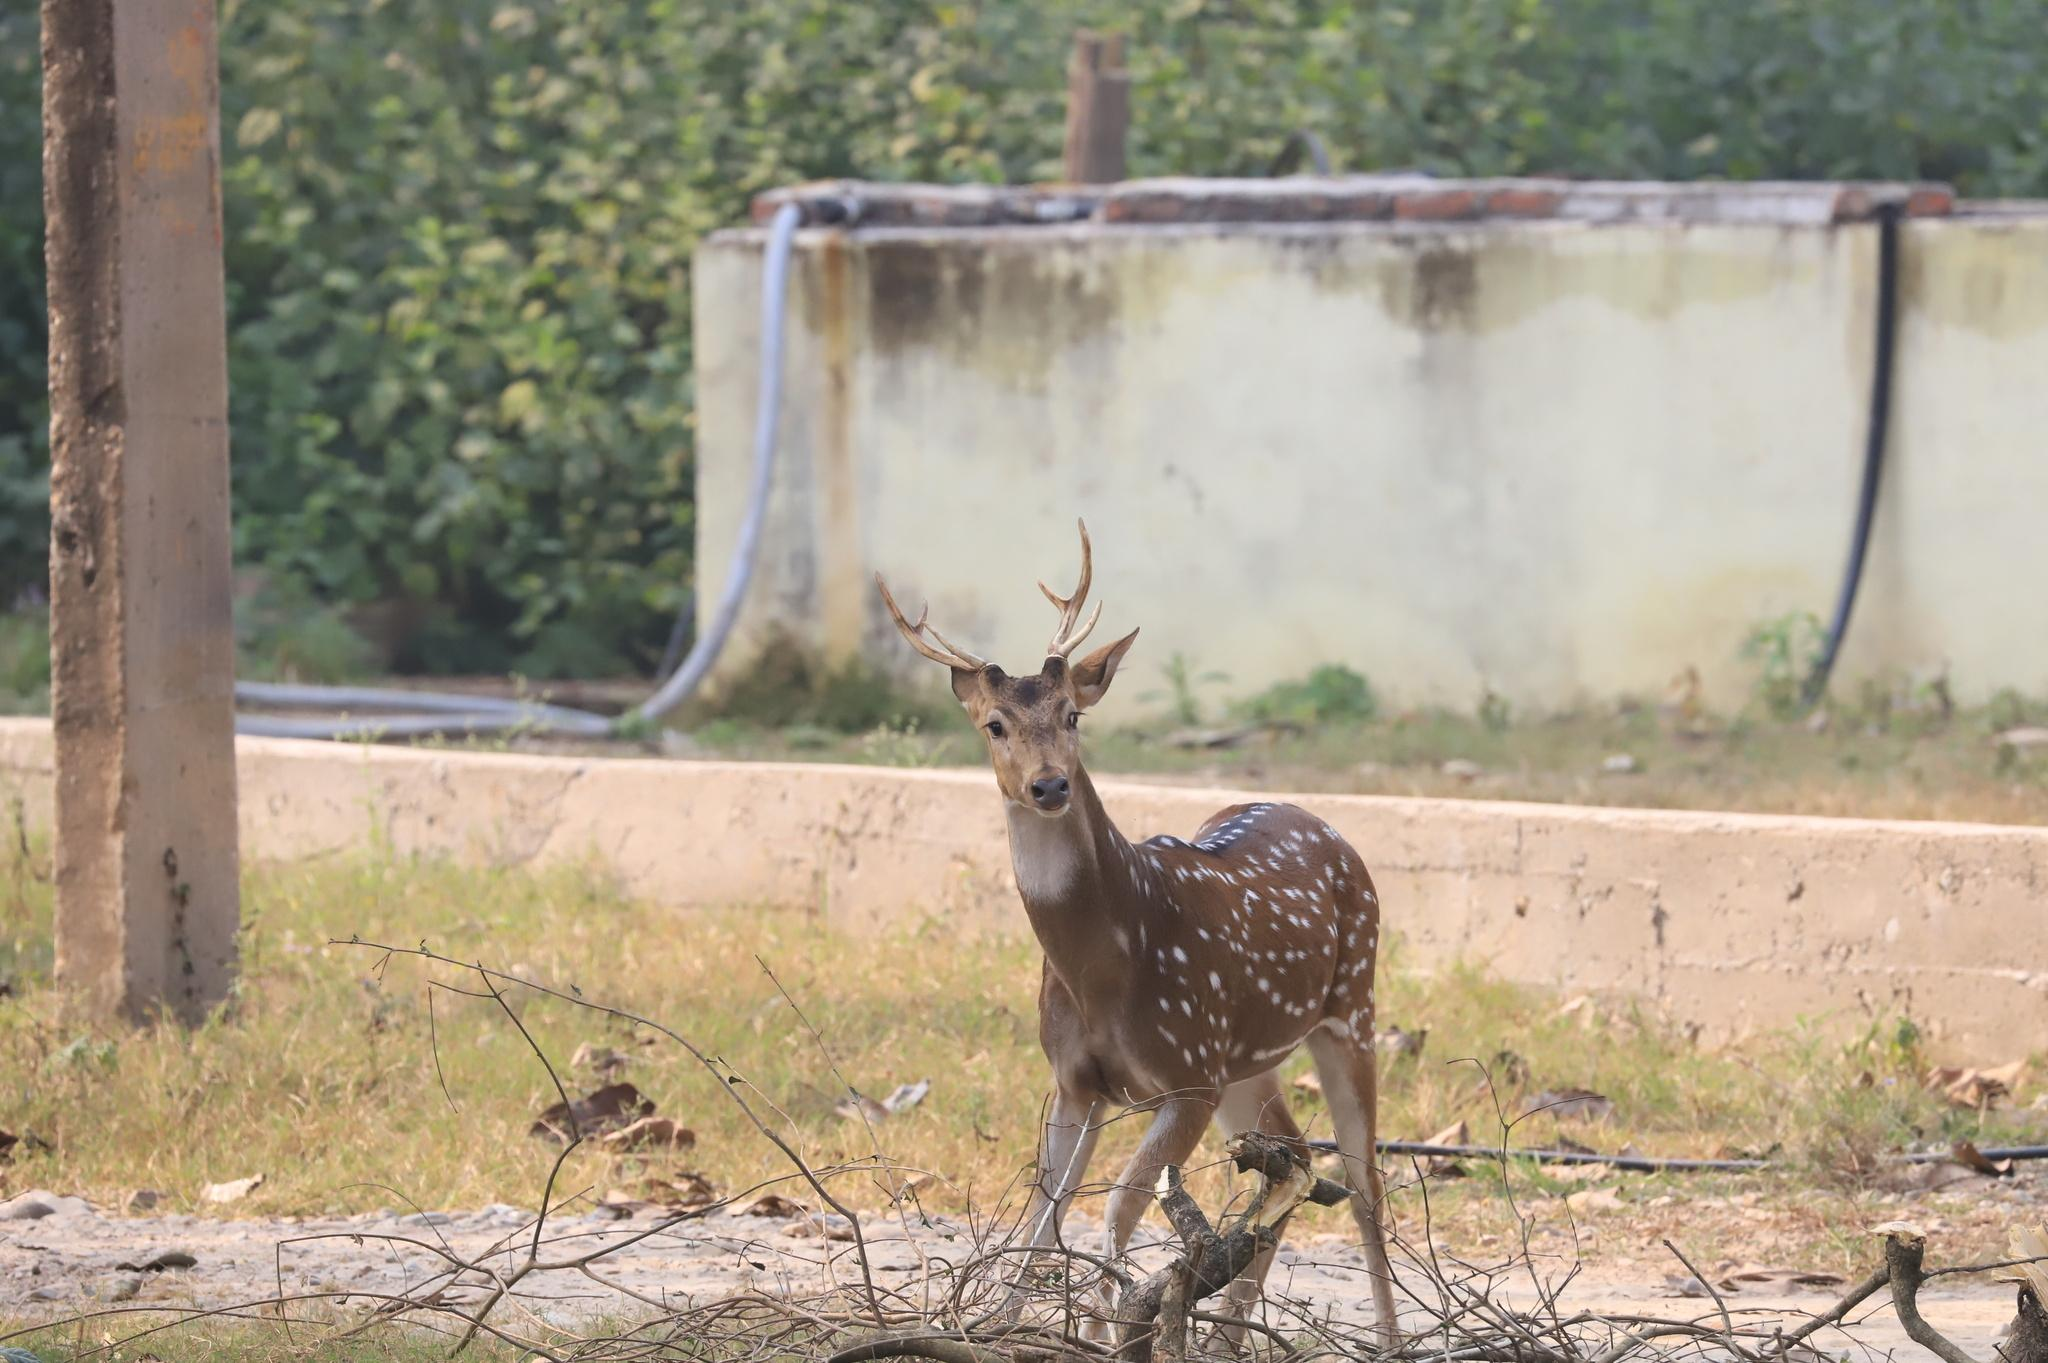Deer: (876, 523, 1396, 1345)
